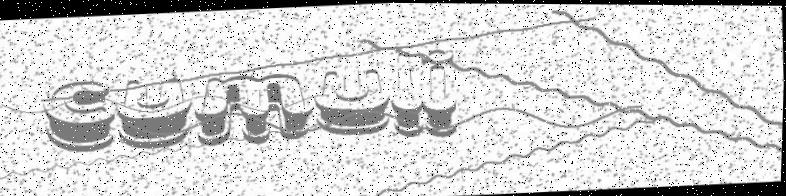c: (40, 78, 119, 156)
i: (420, 47, 461, 139)
l: (387, 47, 426, 138)
m: (192, 70, 318, 148)
u: (115, 74, 196, 152), (312, 65, 394, 138)
